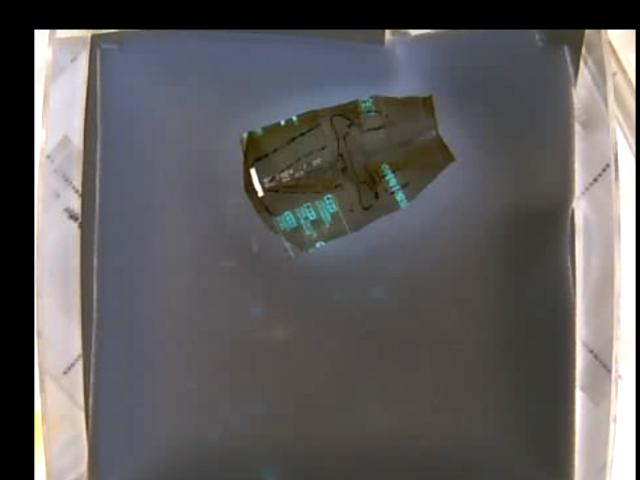Bottle: (239, 92, 455, 260)
